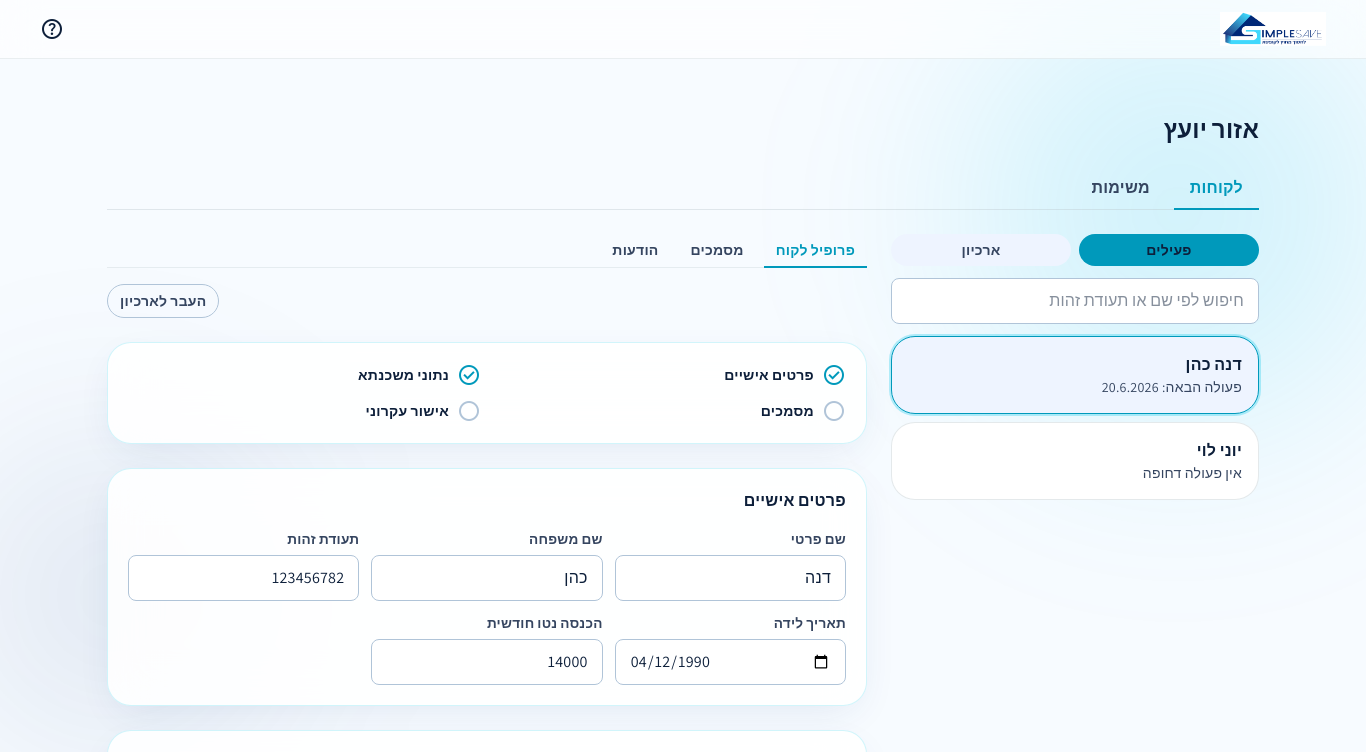
Scenario: AdvisorScreen › archiving a client moves them out of the active list into the archive
Click the button "העבר לארכיון".
click(163, 301)  # box left=107, top=284, right=220, bottom=318
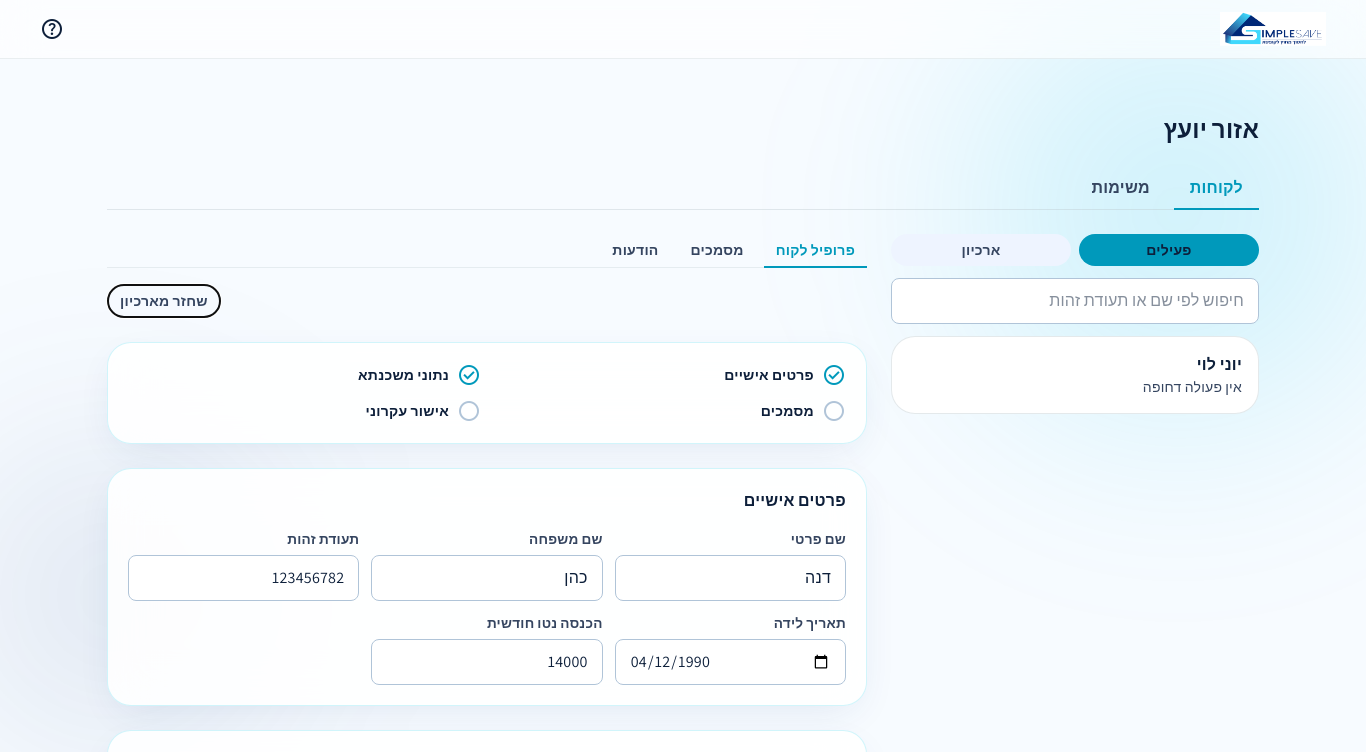
Click the button "ארכיון".
click(981, 250)  # box left=891, top=234, right=1071, bottom=266
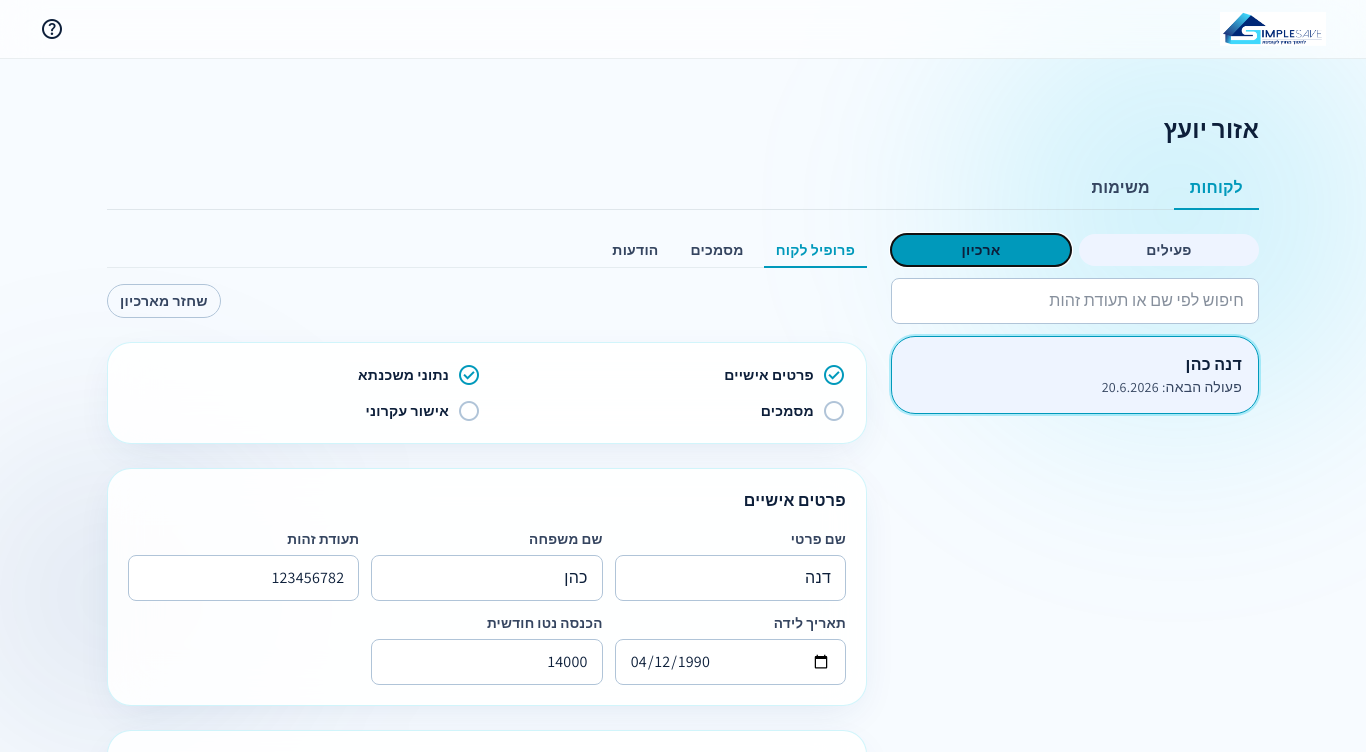
Expected: the text "דנה כהן" is shown, left=1186, top=354, right=1242, bottom=375
